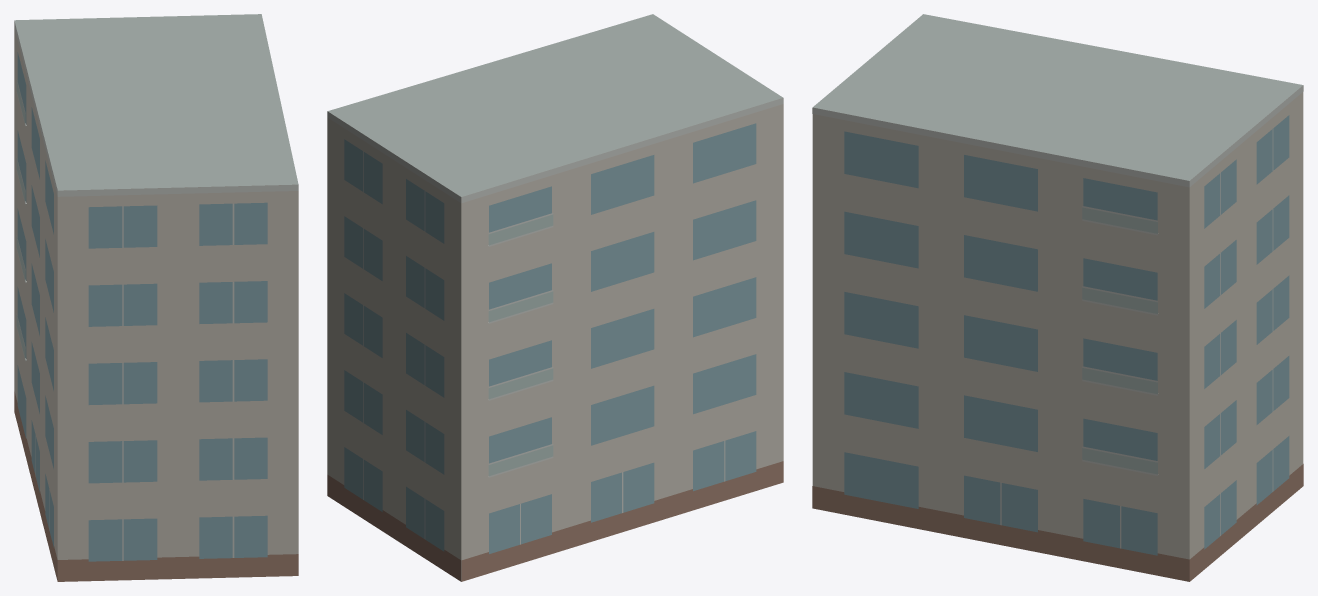
Rendered from survey-upis-32869394.glb.
The picture shows the model from 3 angles, left to right: view 1: azimuth 30°, elevation 25°; view 2: azimuth 150°, elevation 25°; view 3: azimuth 270°, elevation 25°; orthographic projection. The views are drawn at different scales.
Parts seen in each view (by area): view 1: survey-upis-32869394.tmp; view 2: survey-upis-32869394.tmp; view 3: survey-upis-32869394.tmp.
Part boxes in pixels (bbox=[...]): survey-upis-32869394.tmp: bbox=[14, 14, 298, 581]; survey-upis-32869394.tmp: bbox=[327, 14, 783, 581]; survey-upis-32869394.tmp: bbox=[812, 14, 1303, 581].
Bounding box in the file's own units: 13.58 × 15.2 × 16.88.
